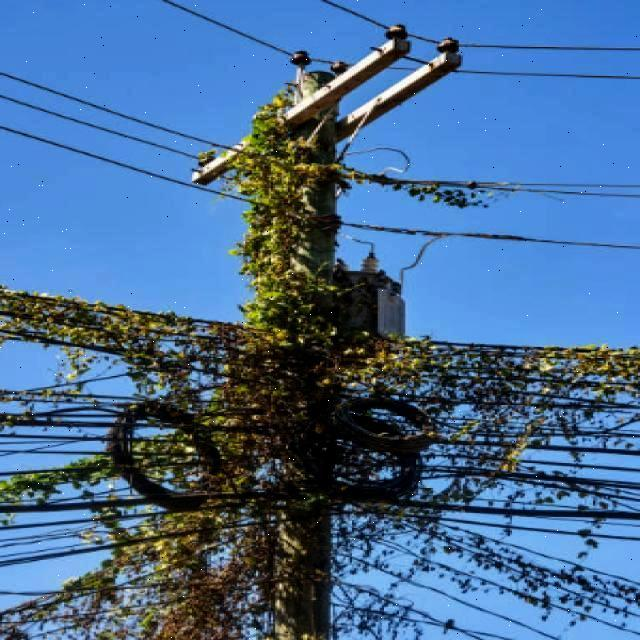critical vegetation: (198, 84, 337, 603), (63, 343, 590, 476)
